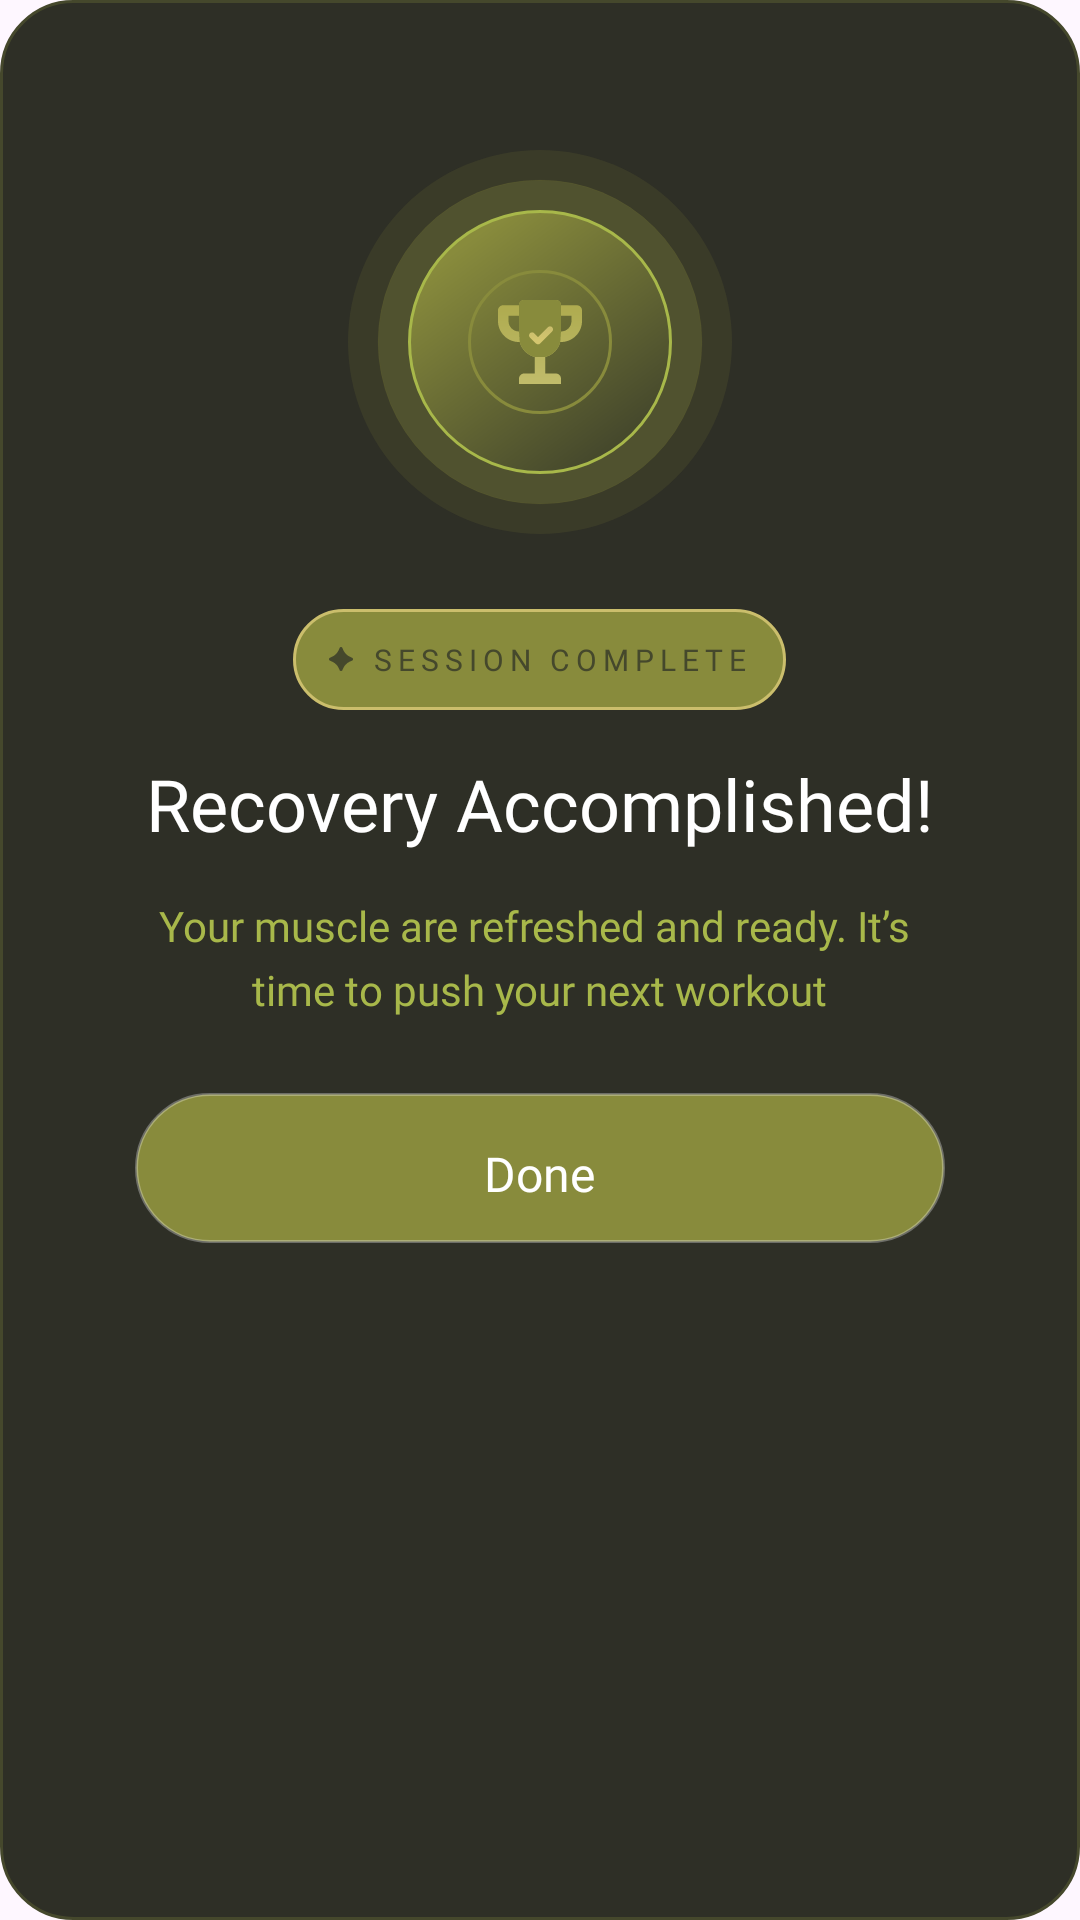

Screen size 1080*1920. Icon name, then its box in pixels as (x1, y1, x2, y2):
cup: (378, 180, 702, 504)
